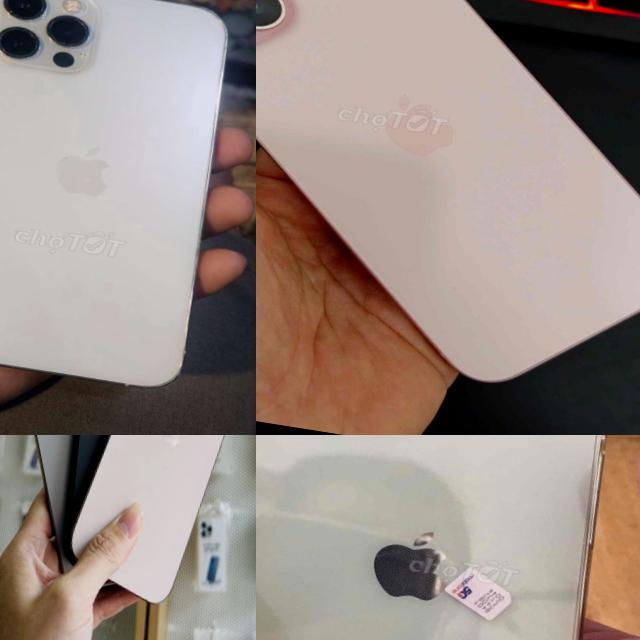gen_12_13: (0, 0, 243, 401), (256, 435, 640, 640)
gen_15: (256, 0, 640, 424)
gen_16: (60, 435, 256, 618)
